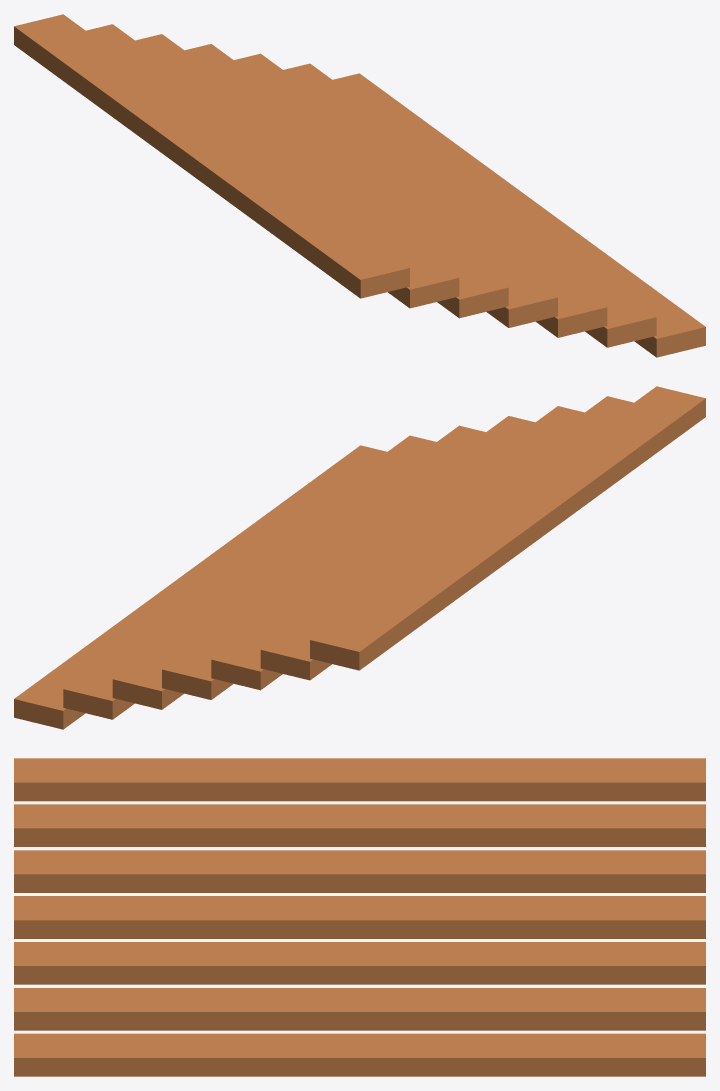
Rendered from gazebo_stairs.glb.
3 views of the same model, one above another, from view 1: azimuth 30°, elevation 25°; view 2: azimuth 150°, elevation 25°; view 3: azimuth 270°, elevation 25° (orthographic).
Parts seen in each view (by area): view 1: gazebo_stairs; view 2: gazebo_stairs; view 3: gazebo_stairs.
Boxes of the visible parts, bbox=[...] form: gazebo_stairs: bbox=[14, 14, 705, 357]; gazebo_stairs: bbox=[14, 386, 705, 729]; gazebo_stairs: bbox=[14, 758, 705, 1076].
Bounding box in the file's own units: 2.61 × 1.08 × 4.53.
